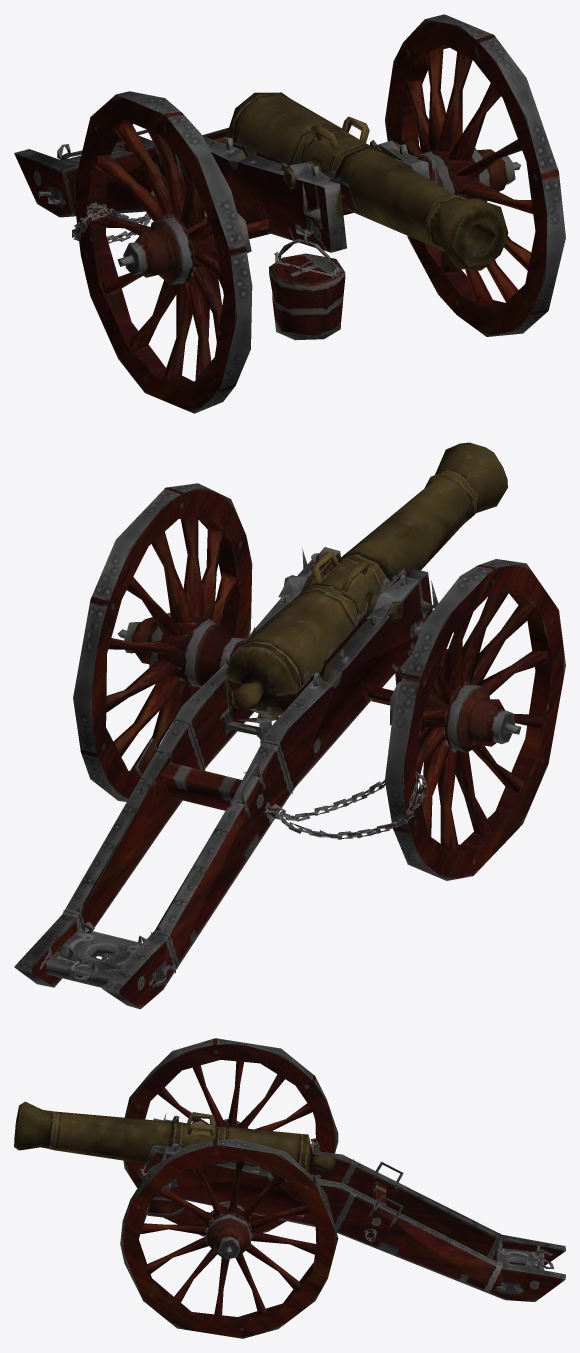
File: realistic-by.76880fe3d732.cannon.glb
3 renders of one model, top to bottom at view 1: azimuth 30°, elevation 25°; view 2: azimuth 150°, elevation 25°; view 3: azimuth 270°, elevation 25°, orthographic. The views are drawn at different scales.
Visible parts, largest first — view 1: cannon; view 2: cannon; view 3: cannon.
Part boxes in pixels (box(x1,y1,x2,y2)): cannon: box(14, 14, 565, 413); cannon: box(14, 442, 565, 1009); cannon: box(14, 1038, 565, 1338).
Size of the model in its own units: 2.77 by 1.95 by 5.
Materials: 1 (1 with a texture image).
